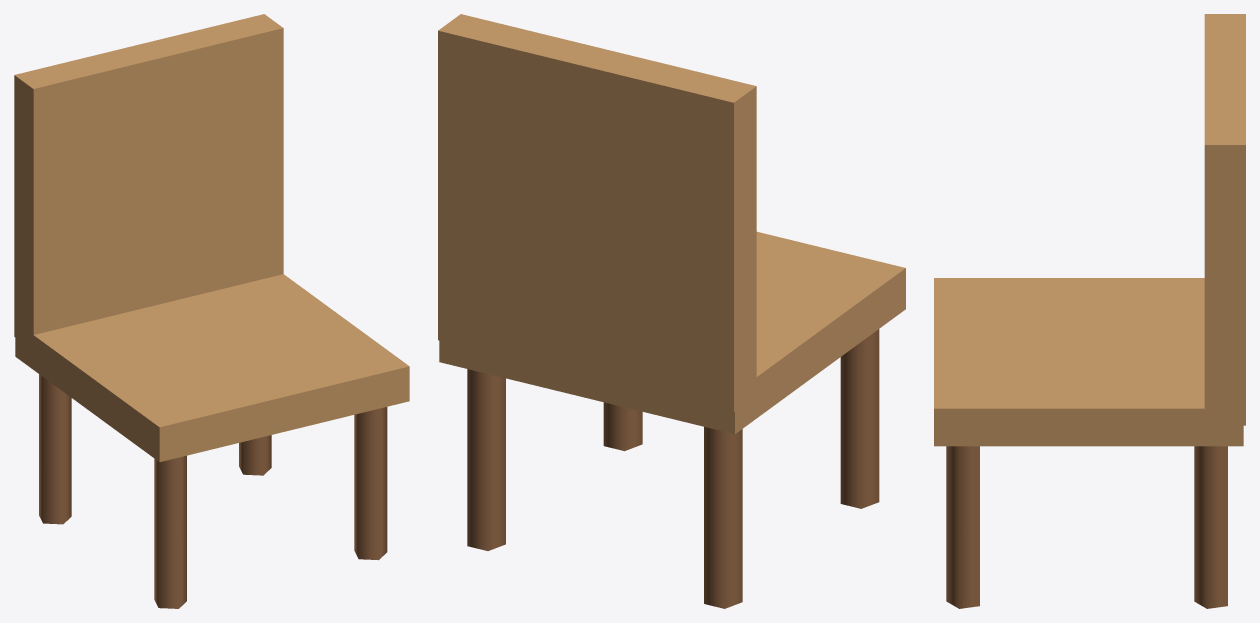
File: chair.glb
3 views of the same model, side by side, from view 1: azimuth 30°, elevation 25°; view 2: azimuth 150°, elevation 25°; view 3: azimuth 270°, elevation 25° (orthographic). The views are drawn at different scales.
Bounding box in the file's own units: 0.75 × 1.25 × 0.755.
